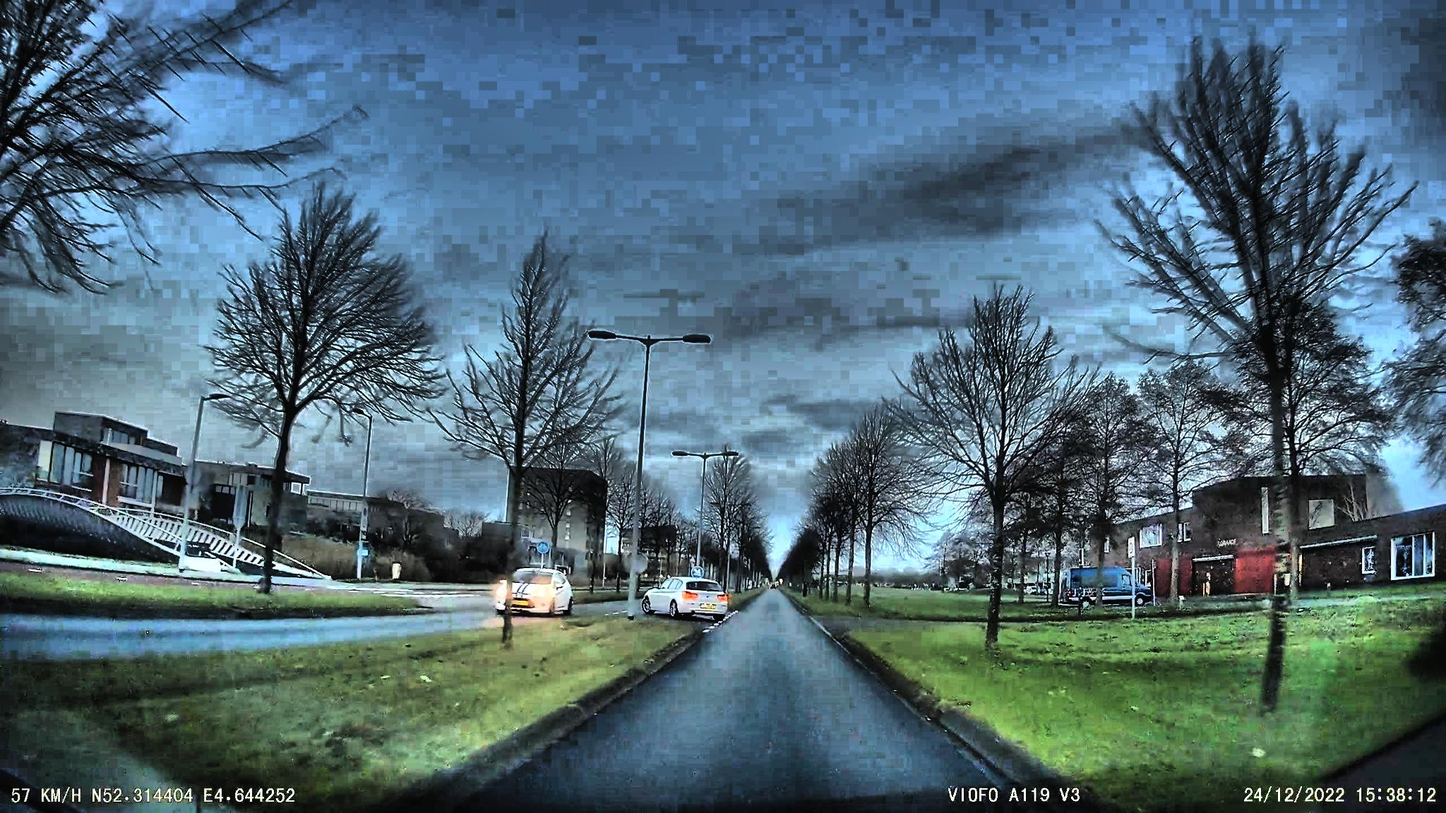Roads: (486, 597, 1054, 813)
